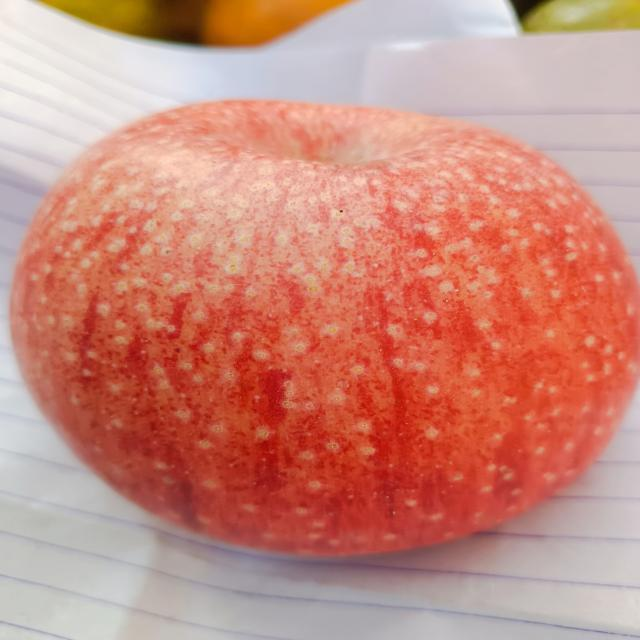Fresh Apple: (33, 105, 640, 555)
